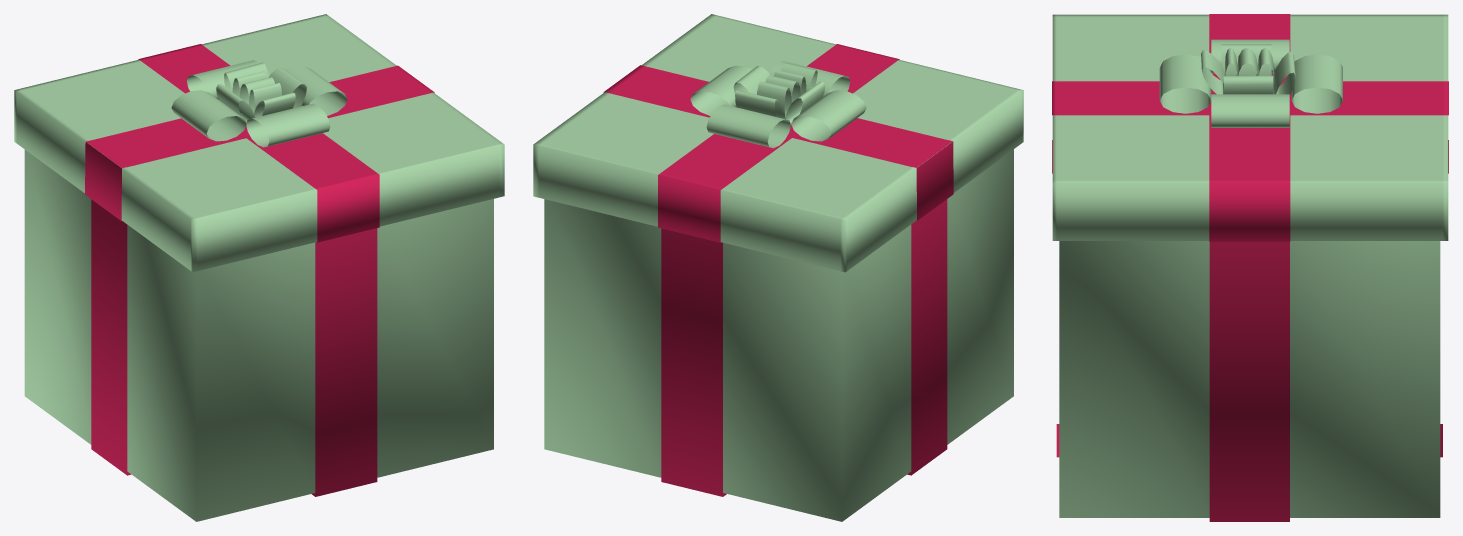
File: gift.fbx
3 views of the same model, side by side, from view 1: azimuth 30°, elevation 25°; view 2: azimuth 150°, elevation 25°; view 3: azimuth 270°, elevation 25° (orthographic). The views are drawn at different scales.
Visible parts, largest first — view 1: Cube, ribbon, cover; view 2: Cube, ribbon, cover; view 3: Cube, cover, ribbon.
Part boxes in pixels (bbox=[...]): Cube: bbox=[24, 149, 493, 521]; ribbon: bbox=[85, 44, 434, 496]; cover: bbox=[14, 14, 504, 272]; Cube: bbox=[544, 149, 1013, 521]; ribbon: bbox=[603, 44, 953, 496]; cover: bbox=[533, 14, 1023, 272]; Cube: bbox=[1059, 241, 1440, 517]; cover: bbox=[1052, 14, 1448, 240]; ribbon: bbox=[1052, 14, 1448, 521].
Bounding box in the file's own units: 105 × 111 × 104.
